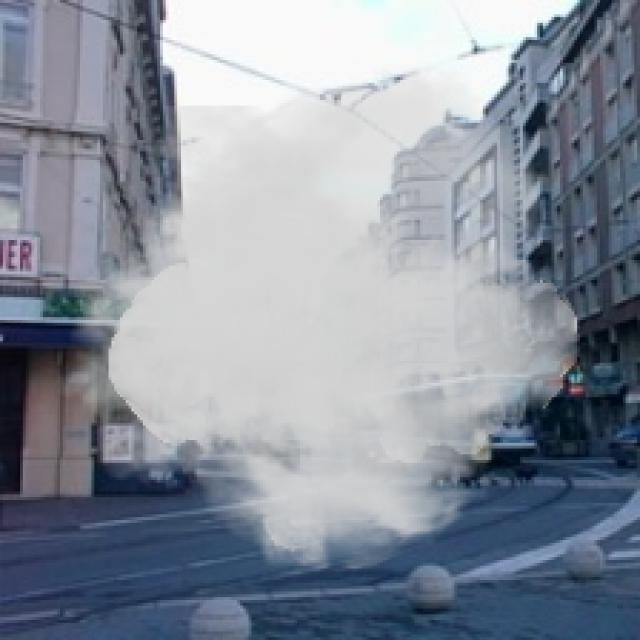smoke: (54, 60, 580, 577)
